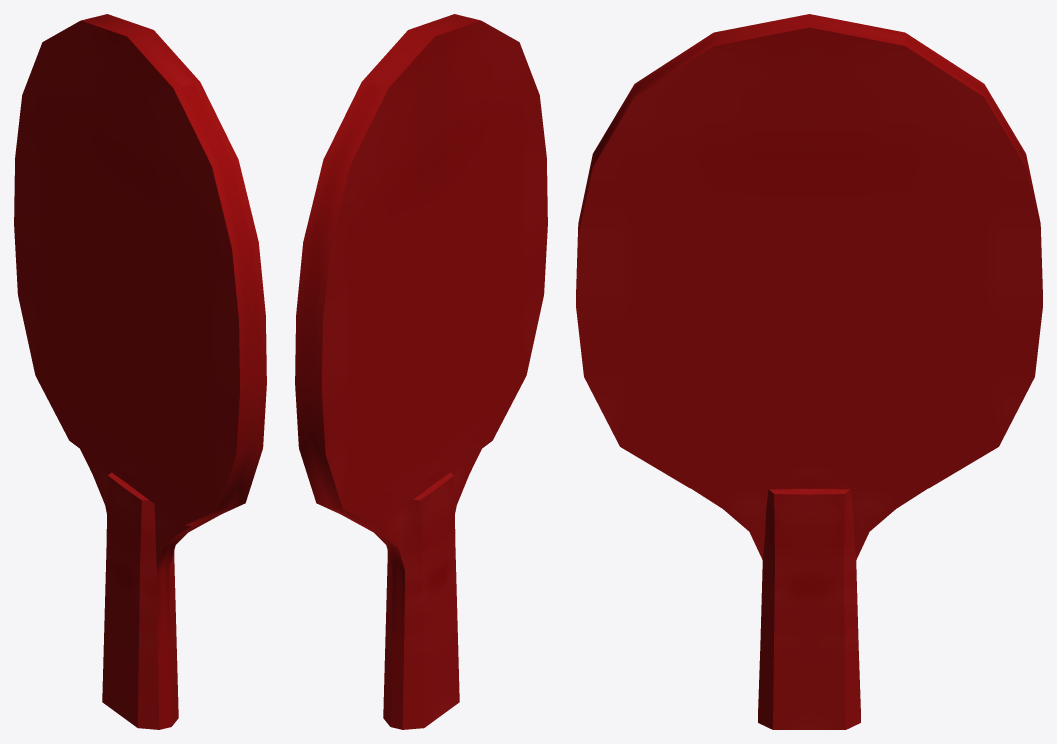
File: pad.a9b07048.gltf
3 renders of one model, left to right at view 1: azimuth 30°, elevation 25°; view 2: azimuth 150°, elevation 25°; view 3: azimuth 270°, elevation 25°, orthographic. The views are drawn at different scales.
Visible parts, largest first — view 1: 立方体; view 2: 立方体; view 3: 立方体.
Part boxes in pixels (x1,y1,x2,y2): 立方体: (14,14,266,729); 立方体: (295,14,547,729); 立方体: (576,14,1042,729).
Bounding box in the file's own units: 1.57 × 24.7 × 14.96.
Materials: 1 (1 with a texture image).
